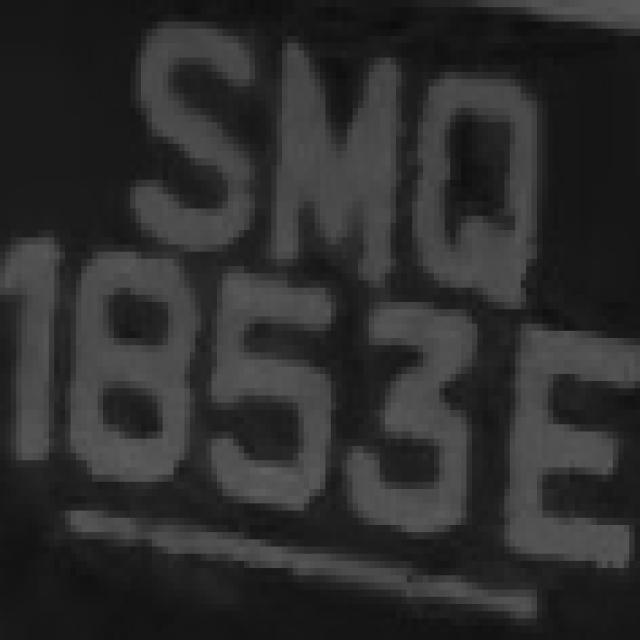3: (342, 280, 494, 582)
5: (217, 273, 342, 532)
8: (76, 209, 201, 489)
E: (499, 295, 635, 582)
M: (255, 36, 412, 302)
Q: (396, 50, 559, 302)
S: (108, 21, 266, 288)
